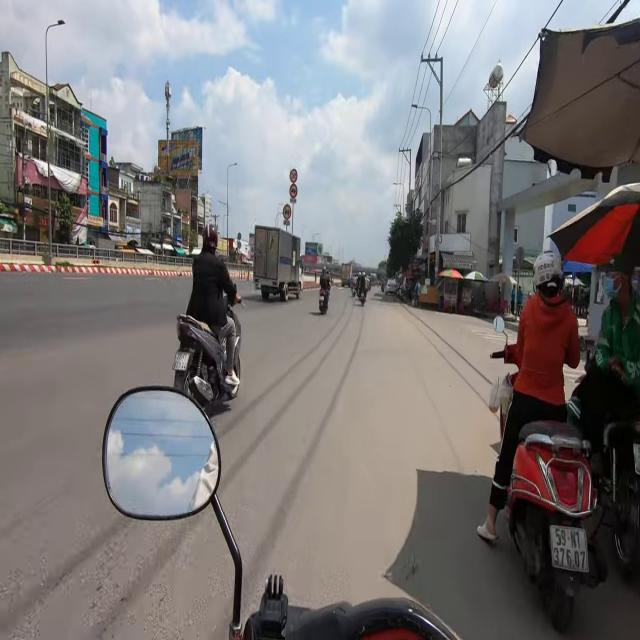bien_trang: (548, 518, 588, 578)
